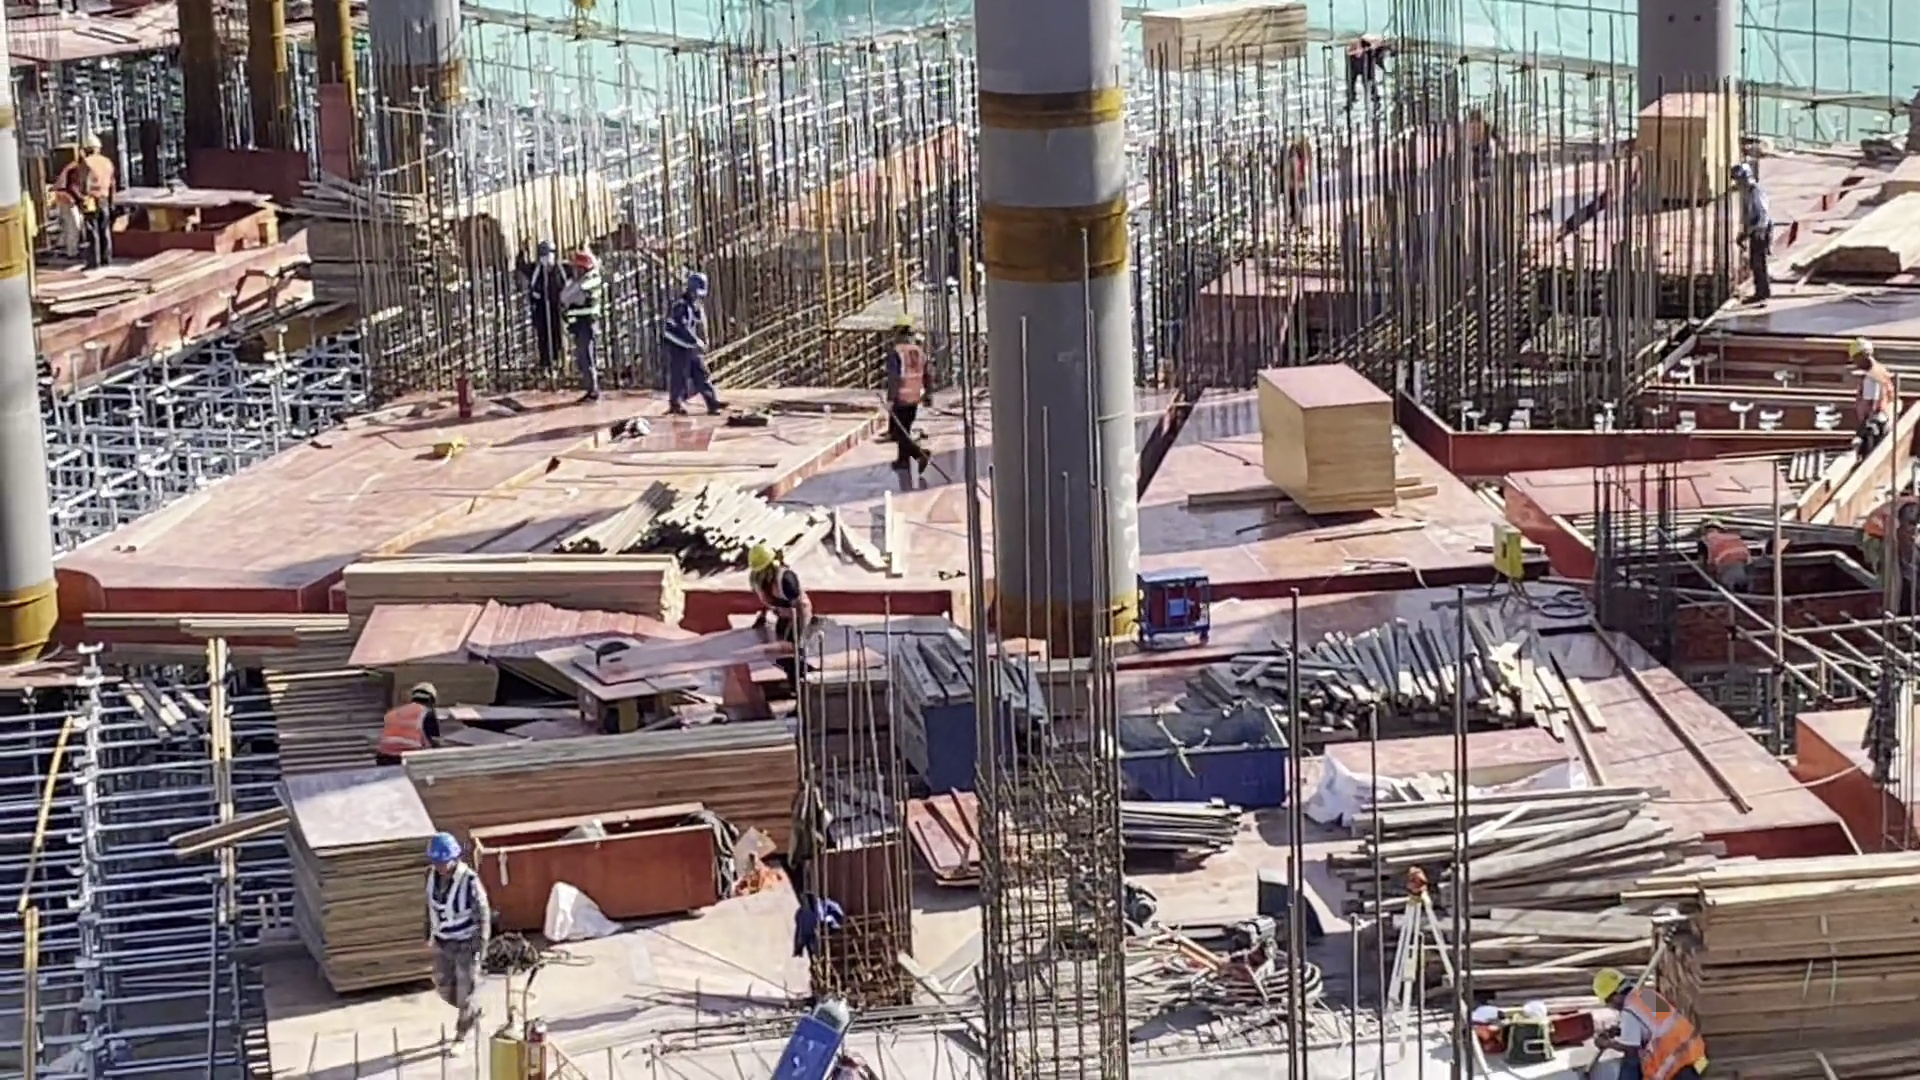helmet: (424, 829, 461, 868), (1589, 967, 1627, 997), (681, 269, 710, 296), (888, 309, 917, 333), (746, 544, 774, 570), (408, 684, 436, 706), (1844, 337, 1872, 356), (574, 251, 594, 271), (79, 134, 102, 151), (537, 239, 555, 256)
person: (421, 828, 489, 1058), (1583, 965, 1710, 1080), (744, 546, 817, 698), (886, 312, 933, 492), (664, 271, 717, 419), (516, 239, 563, 379), (561, 251, 603, 404), (1733, 165, 1776, 306), (374, 682, 448, 765), (1847, 335, 1900, 450), (1858, 496, 1920, 578), (76, 133, 115, 265), (1693, 514, 1754, 594), (1338, 31, 1391, 112), (49, 154, 79, 252)
vest: (1614, 991, 1703, 1080), (750, 566, 813, 642), (425, 869, 481, 945), (665, 300, 712, 370), (374, 706, 433, 761), (567, 270, 603, 332), (893, 342, 924, 410), (1860, 365, 1889, 432), (525, 261, 562, 308), (81, 155, 112, 206), (47, 159, 79, 206)
